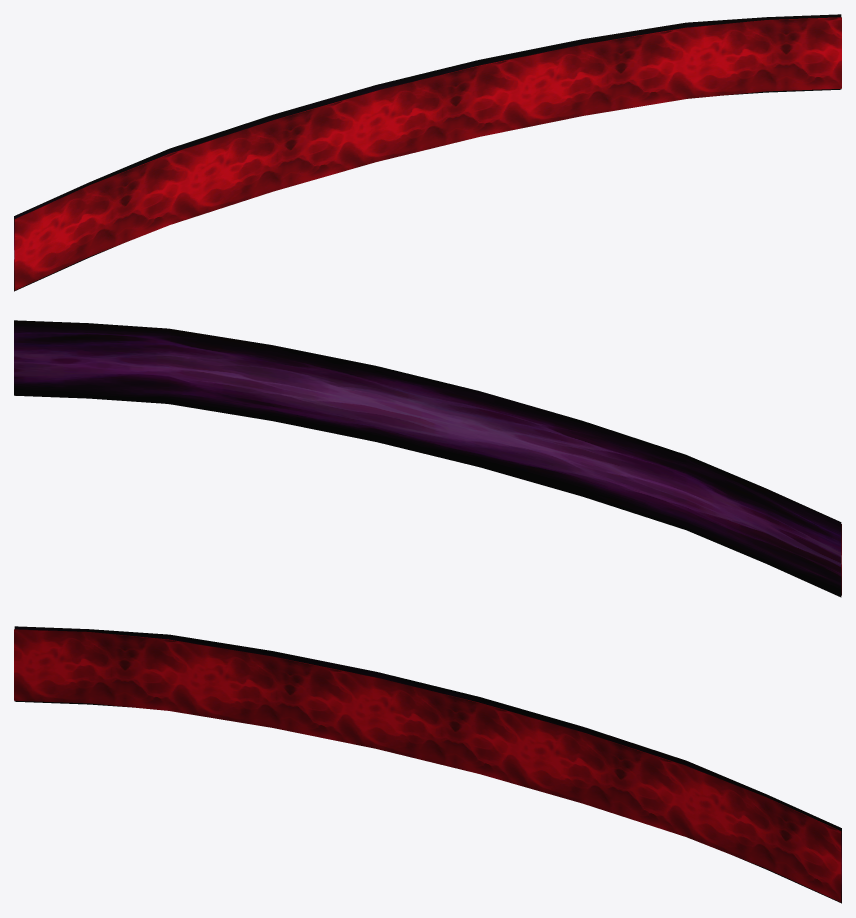
Rendered from taitan_fuben_02_lu02.obj.
The picture shows the model from 3 angles, top to bottom: view 1: azimuth 30°, elevation 25°; view 2: azimuth 150°, elevation 25°; view 3: azimuth 330°, elevation 25°; orthographic projection.
Visible parts, largest first — view 1: li01A, di; view 2: di, luB; view 3: li01A, di.
Boxes of the visible parts, <box> form: li01A: <box>14,17,841,290</box>; di: <box>14,14,841,291</box>; di: <box>14,320,841,597</box>; luB: <box>169,404,841,595</box>; li01A: <box>14,629,841,902</box>; di: <box>14,626,841,903</box>.
Size of the model in its own units: 2309 by 315 by 3.42.
Materials: 3 (3 with a texture image).
